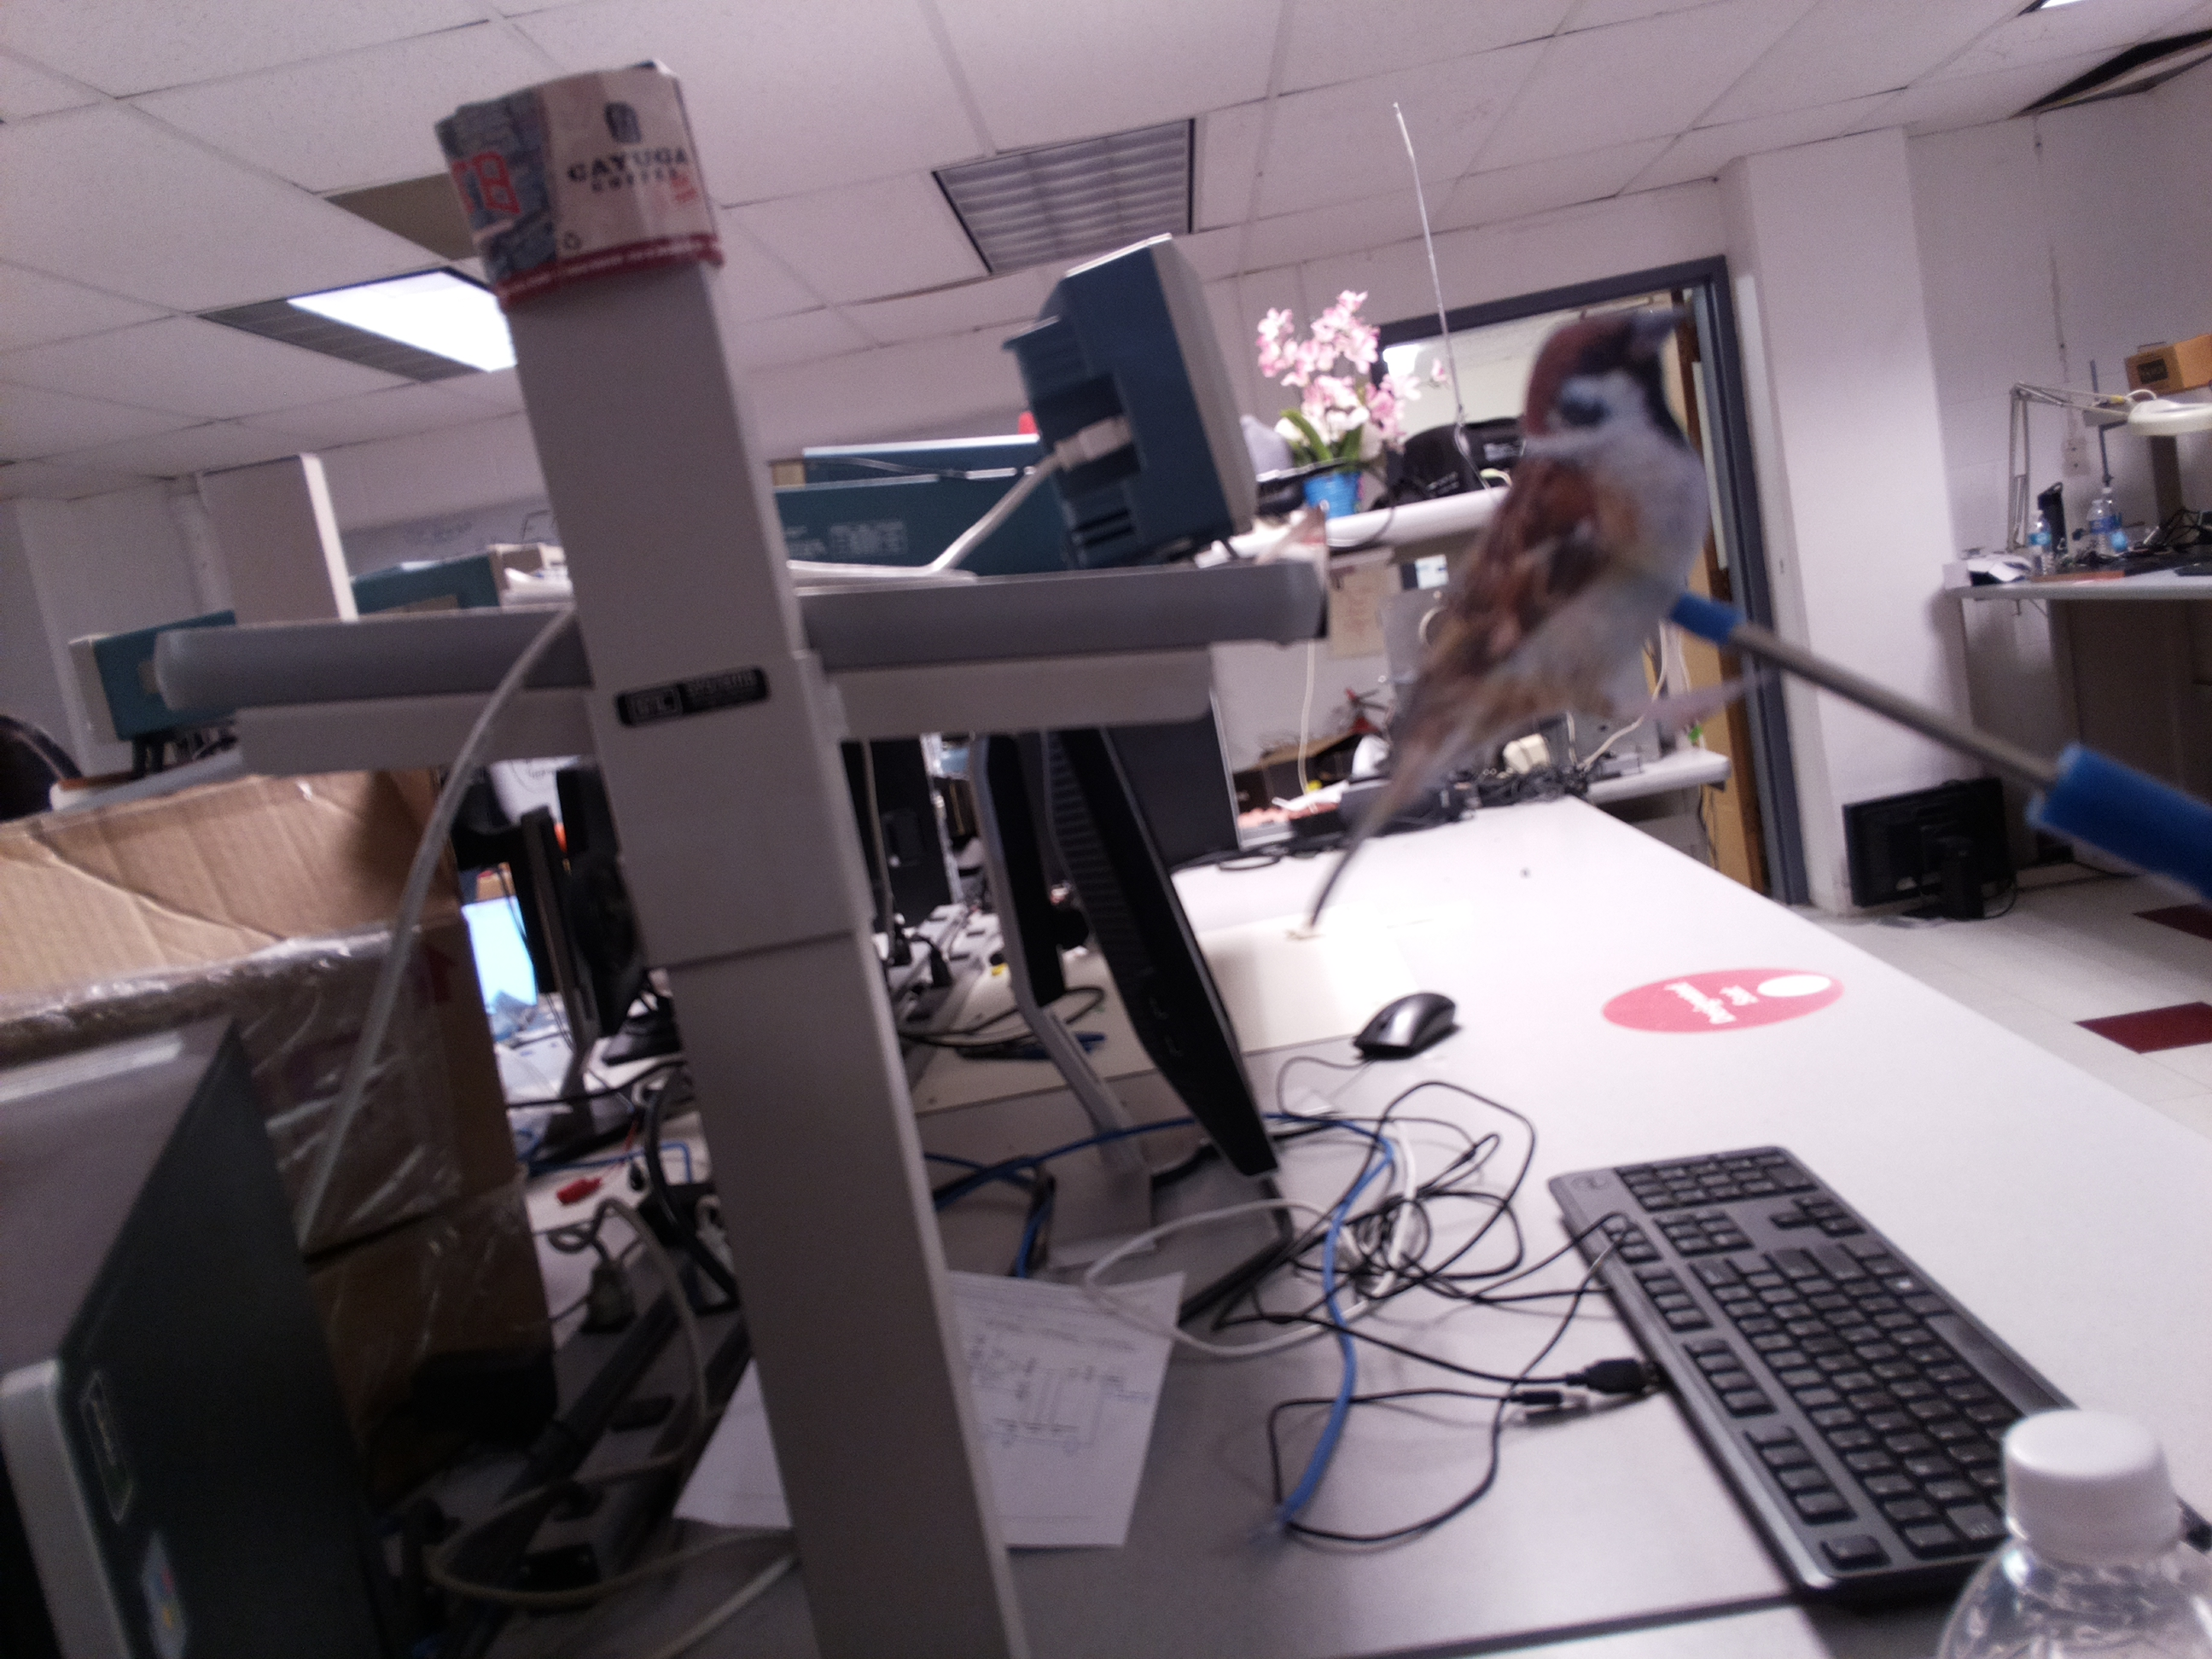bird: (1308, 291, 1716, 929)
